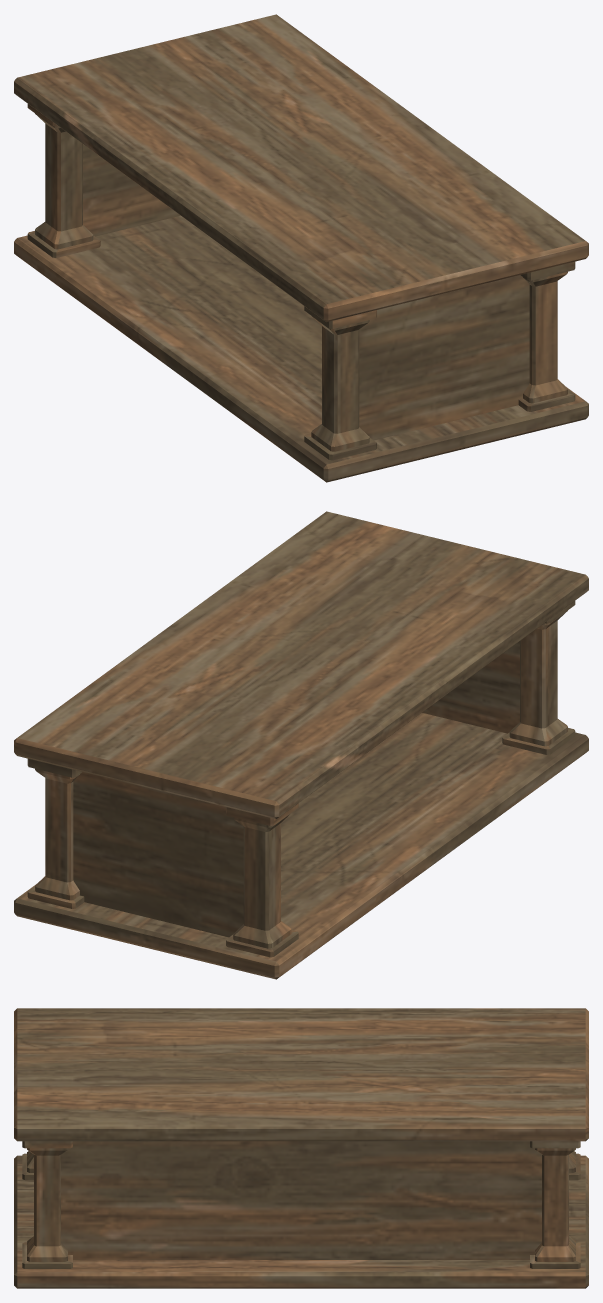
File: SM_shelf_01.fbx
The picture shows the model from 3 angles, top to bottom: view 1: azimuth 30°, elevation 25°; view 2: azimuth 150°, elevation 25°; view 3: azimuth 270°, elevation 25°; orthographic projection. The views are drawn at different scales.
Parts seen in each view (by area): view 1: SM_shelf_01_LOD0; view 2: SM_shelf_01_LOD0; view 3: SM_shelf_01_LOD0.
Boxes of the visible parts, bbox=[...] form: SM_shelf_01_LOD0: bbox=[14, 14, 588, 482]; SM_shelf_01_LOD0: bbox=[14, 511, 588, 979]; SM_shelf_01_LOD0: bbox=[14, 1008, 588, 1288].
Size of the model in its own units: 74.97 by 153 by 48.12.
Materials: 1 (1 with a texture image).
